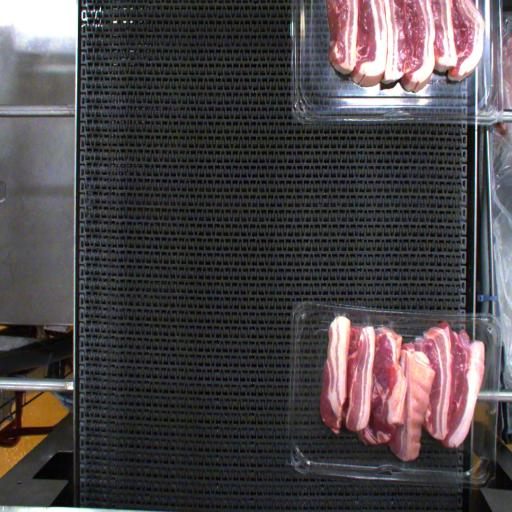packaging-error: (377, 314, 400, 332), (360, 314, 377, 334), (331, 310, 352, 325)
